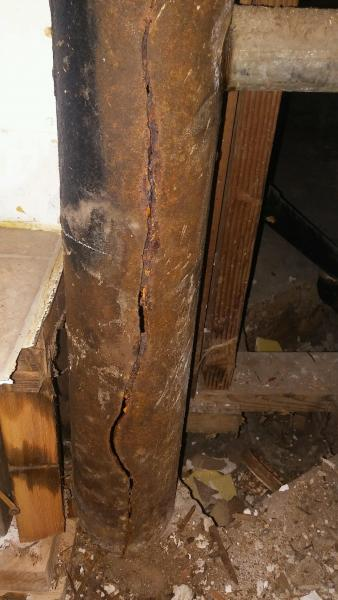crack: (102, 8, 164, 523)
